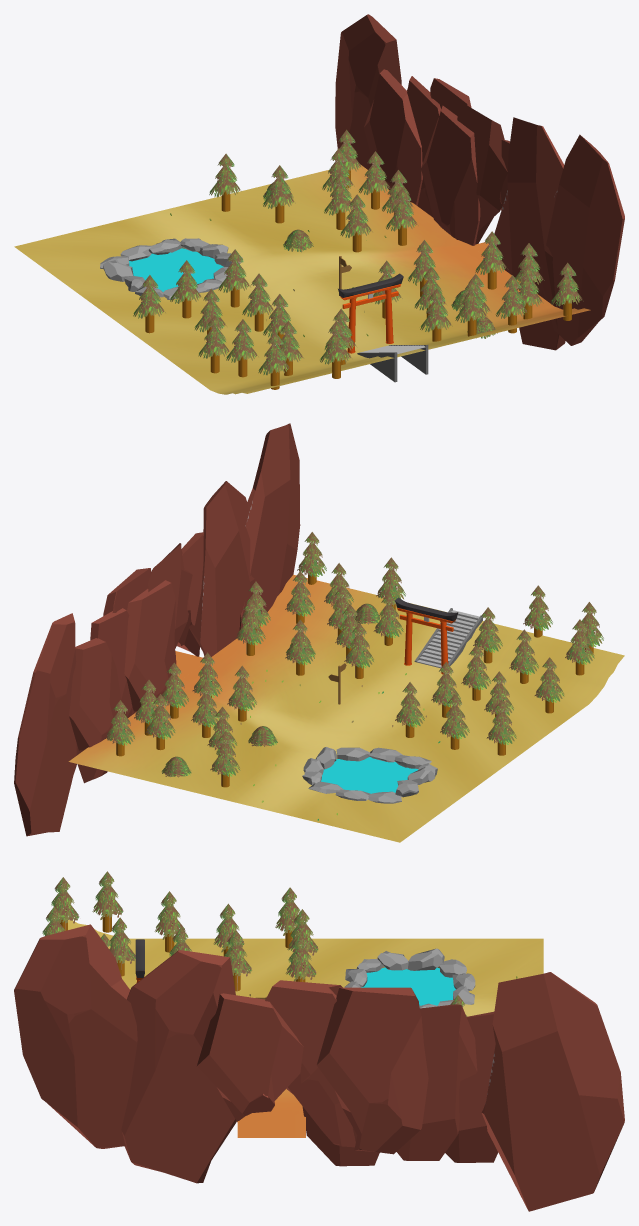
Rendered from Forest.fbx.
3 views of the same model, one above another, from view 1: azimuth 30°, elevation 25°; view 2: azimuth 150°, elevation 25°; view 3: azimuth 270°, elevation 25° (orthographic). The views are drawn at different scales.
Visible parts, largest first — view 1: city.006, Tree_SE02, rock04.019, rock04.030, rock04.031, pond, Torii, Armrest.004; view 2: city.006, Tree_SE02, rock04.019, rock04.030, rock04.031, pond, Armrest.004, Torii; view 3: rock04.030, rock04.019, rock04.031, city.006, Tree_SE02, pond, rock04.007.
Boxes of the visible parts, bbox=[...] form: city.006: bbox=[14, 164, 590, 394]; Tree_SE02: bbox=[133, 129, 583, 389]; rock04.019: bbox=[335, 14, 480, 245]; rock04.030: bbox=[430, 78, 565, 350]; rock04.031: bbox=[538, 134, 624, 345]; pond: bbox=[129, 248, 223, 291]; Torii: bbox=[338, 273, 403, 353]; Armrest.004: bbox=[357, 345, 428, 382]; city.006: bbox=[68, 574, 624, 842]; Tree_SE02: bbox=[105, 532, 603, 787]; rock04.019: bbox=[14, 580, 176, 836]; rock04.030: bbox=[103, 481, 254, 656]; rock04.031: bbox=[239, 423, 300, 633]; pond: bbox=[321, 757, 418, 793]; Armrest.004: bbox=[414, 608, 482, 668]; Torii: bbox=[394, 597, 458, 674]; rock04.030: bbox=[121, 950, 428, 1183]; rock04.019: bbox=[302, 972, 624, 1211]; rock04.031: bbox=[14, 924, 137, 1148]; city.006: bbox=[68, 920, 543, 1137]; Tree_SE02: bbox=[42, 871, 466, 1016]; pond: bbox=[361, 967, 455, 1005]; rock04.007: bbox=[407, 948, 444, 970].
Bounding box in the file's own units: 4075 × 2670 × 5280.
Materials: 7 (6 with a texture image).
